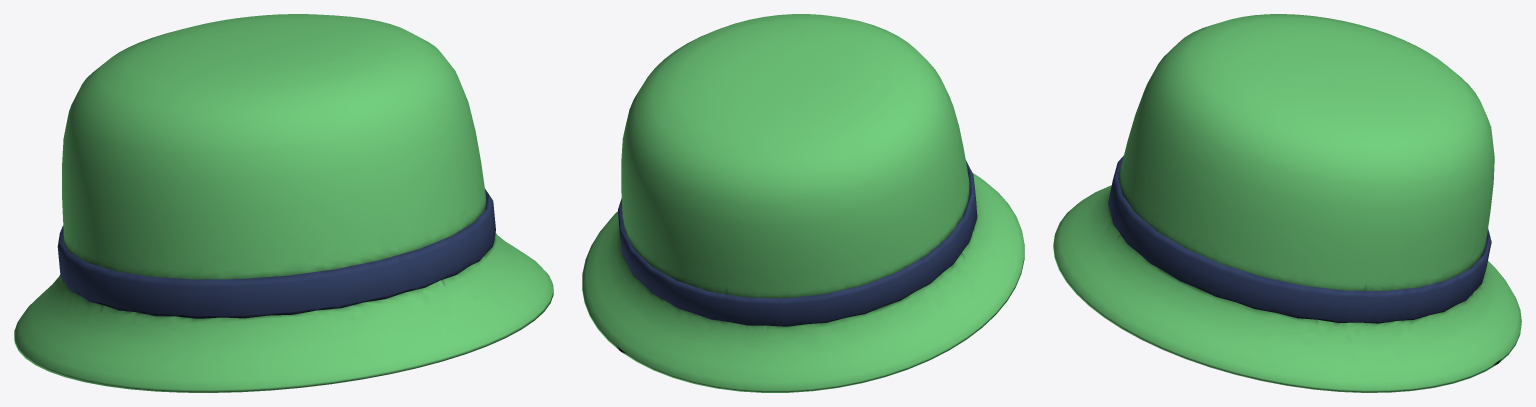
The model's file is hat_bucket.glb.
3 renders of one model, left to right at view 1: azimuth 30°, elevation 25°; view 2: azimuth 150°, elevation 25°; view 3: azimuth 270°, elevation 25°, orthographic. The views are drawn at different scales.
Visible parts, largest first — view 1: hat_bucket; view 2: hat_bucket; view 3: hat_bucket.
Part boxes in pixels (box(x1,y1,x2,y2)): hat_bucket: box(14, 14, 553, 392); hat_bucket: box(582, 14, 1024, 392); hat_bucket: box(1053, 14, 1521, 392).
Bounding box in the file's own units: 0.7966 × 0.5024 × 0.7841.
2 materials, 2 textured.
